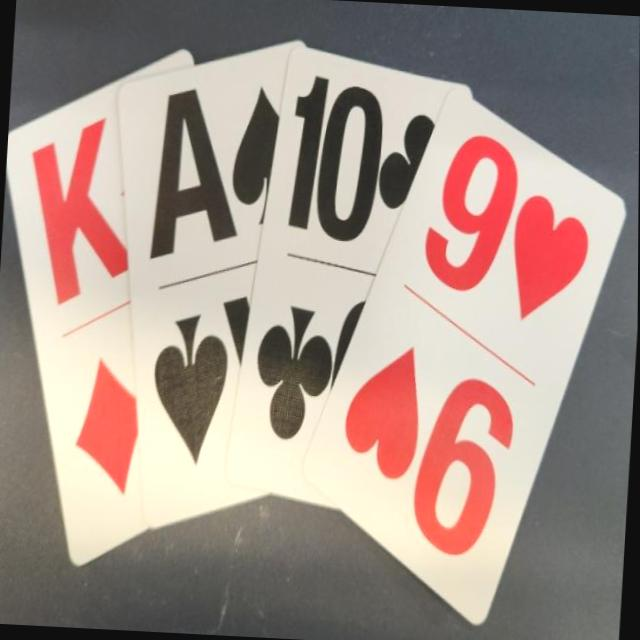Card-10: (228, 45, 471, 507)
Card-9: (303, 91, 626, 624)
Card-A: (121, 41, 293, 525)
Card-K: (7, 47, 194, 564)
